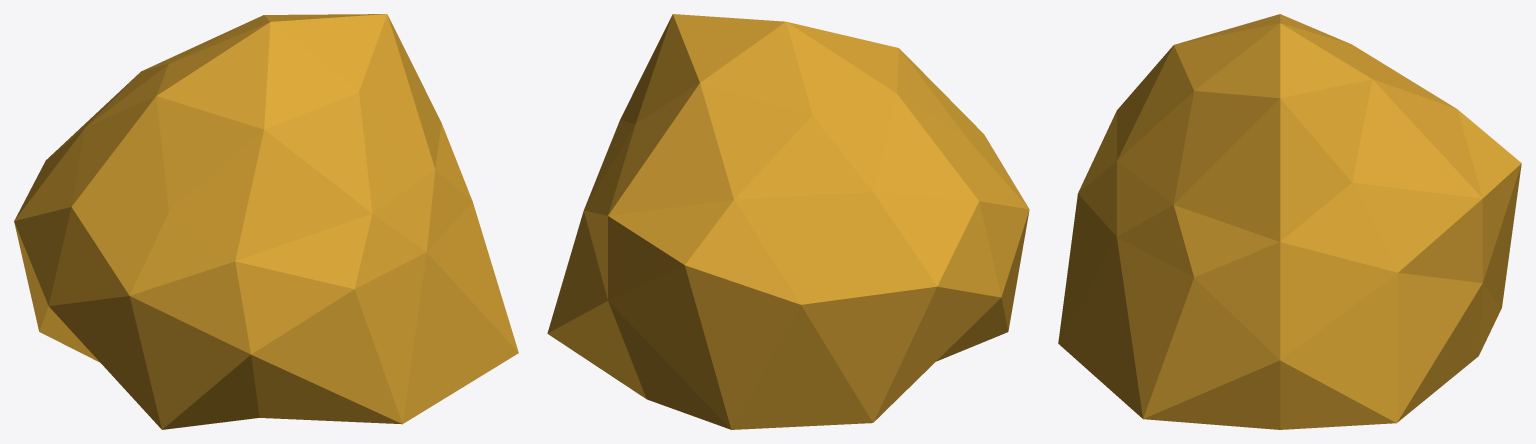
3 renders of one model, left to right at view 1: azimuth 30°, elevation 25°; view 2: azimuth 150°, elevation 25°; view 3: azimuth 270°, elevation 25°, orthographic. The views are drawn at different scales.
Parts seen in each view (by area): view 1: GeoSphere006; view 2: GeoSphere006; view 3: GeoSphere006.
Part boxes in pixels (bbox=[...]): GeoSphere006: bbox=[14, 14, 518, 429]; GeoSphere006: bbox=[547, 14, 1029, 429]; GeoSphere006: bbox=[1058, 14, 1521, 429].
Size of the model in its own units: 20.62 by 14.98 by 20.
